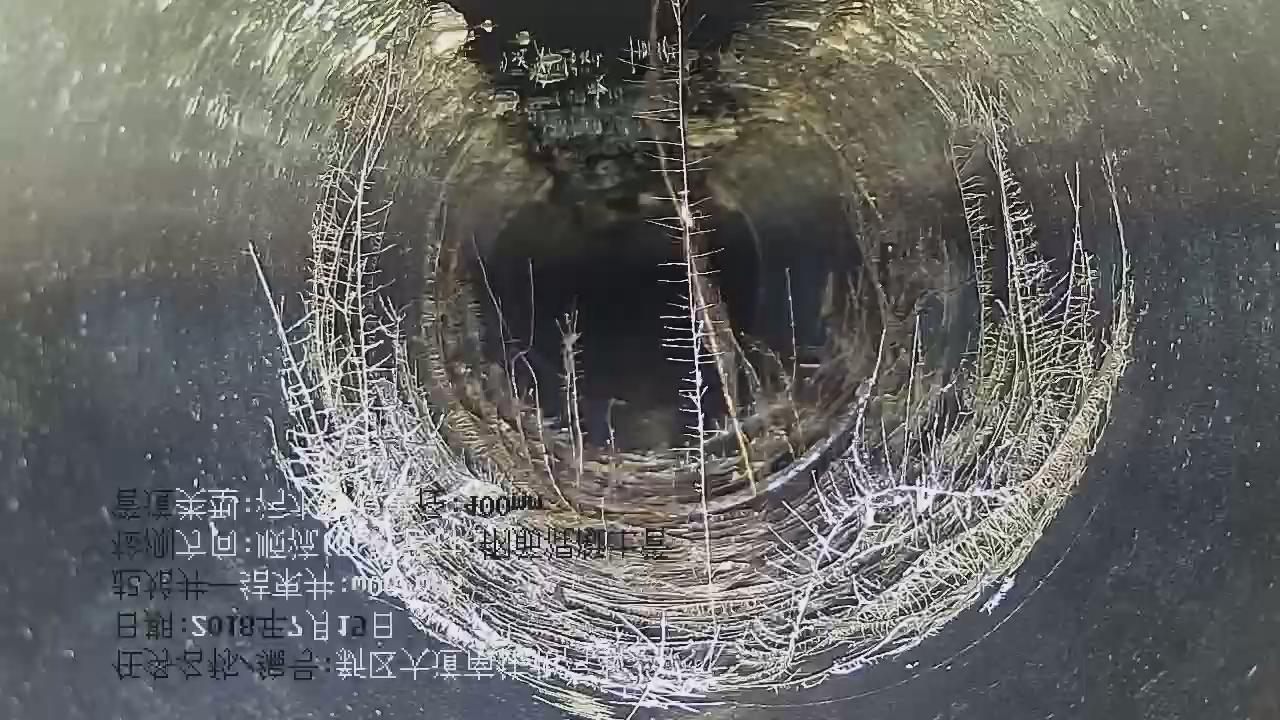SG: (272, 1, 1134, 720)
